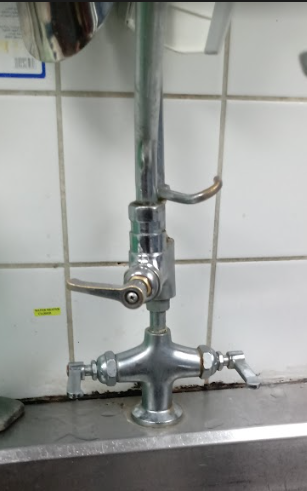Deck Faucet: (61, 2, 267, 450)
